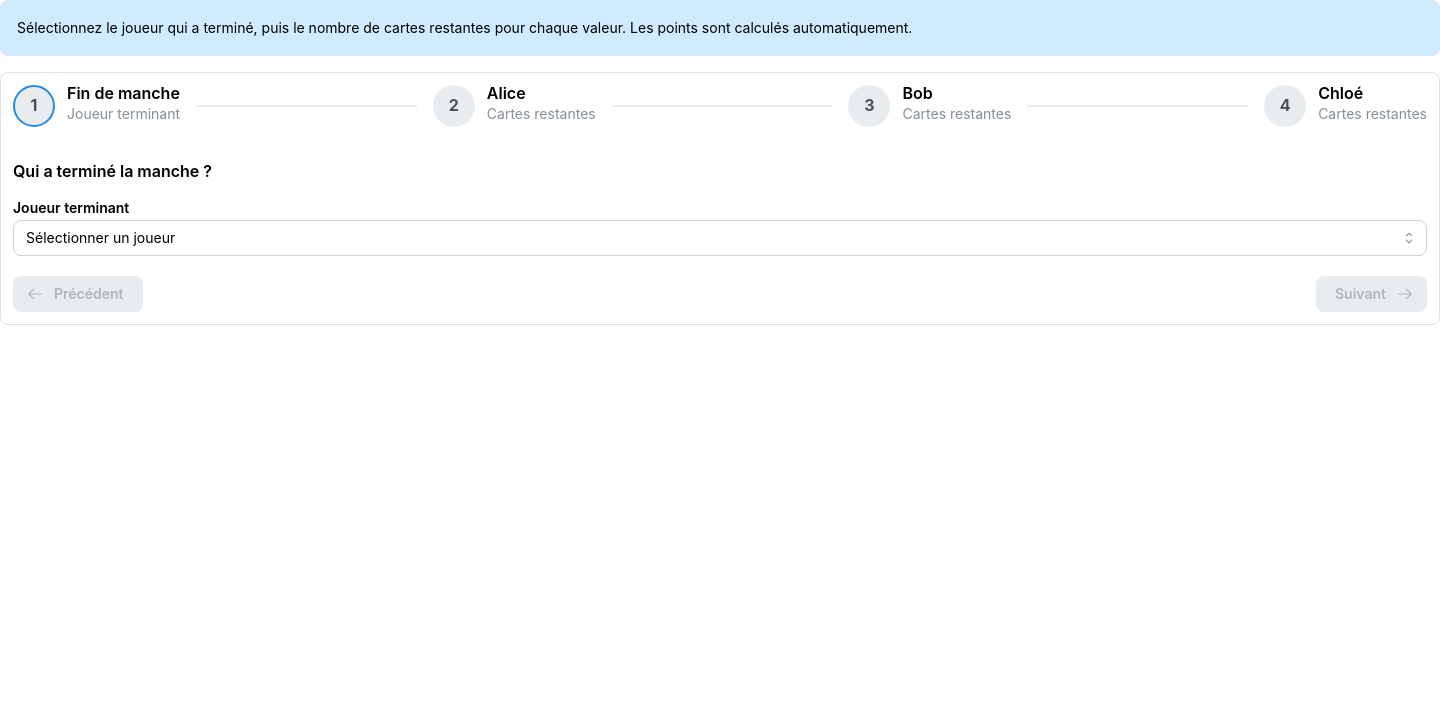
skyjo › affiche la saisie et les joueurs
The width and height of the screenshot is (1440, 704).
Expected: the text "Fin de manche" is shown, [67, 85, 180, 101]
Expected: the button "Suivant" is disabled, [1316, 276, 1427, 312]
Select "Alice" in the dropdown labelled "Joueur terminant": {"x": 720, "y": 238} [13, 220, 1427, 256]
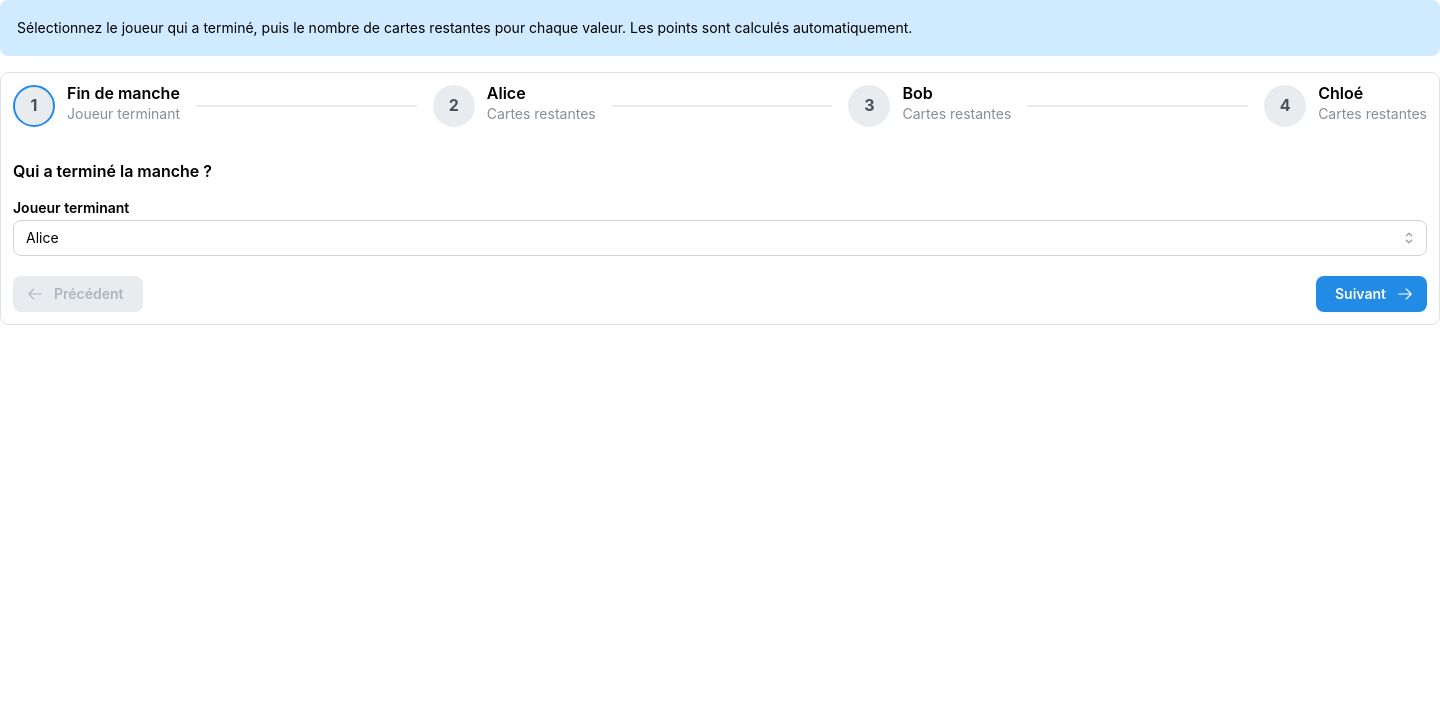
Click the button "Suivant": {"x": 1372, "y": 294} [1316, 276, 1427, 312]
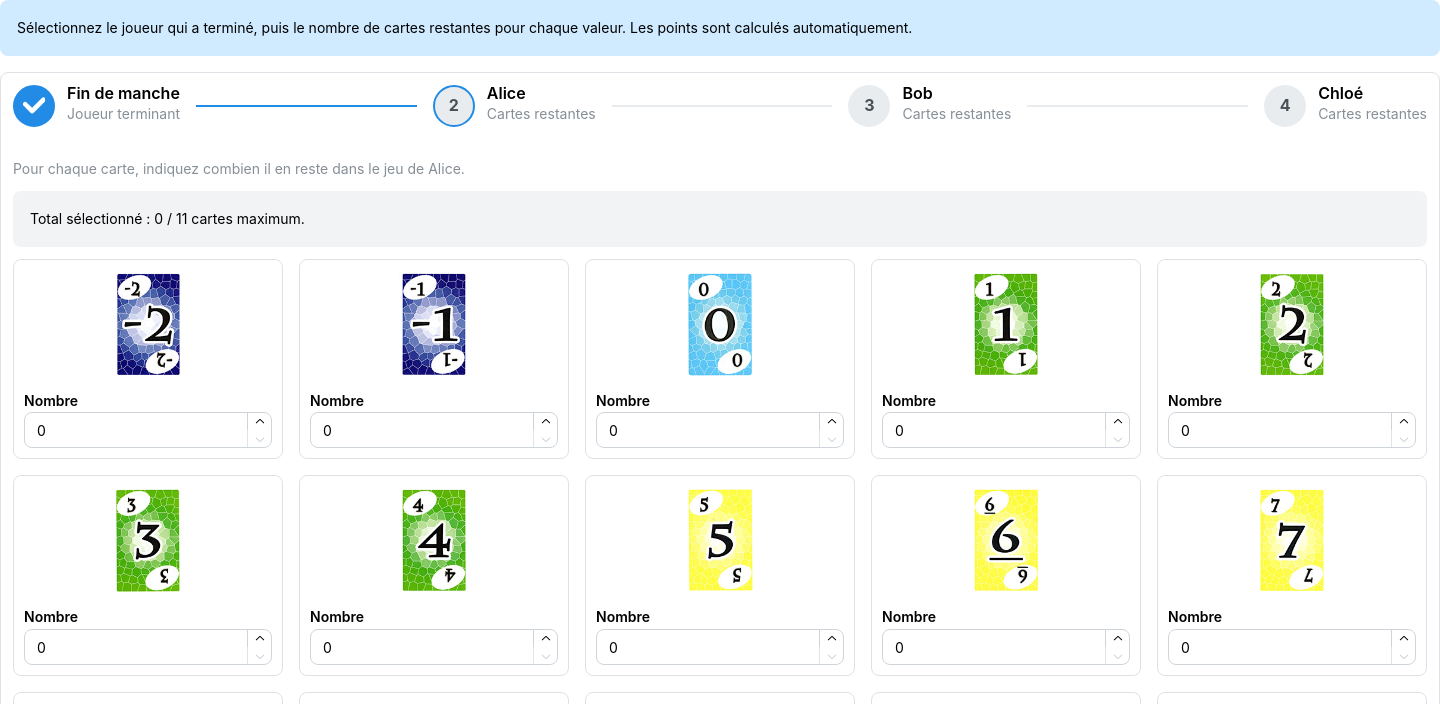
Now the picture named "Carte Skyjo -2" is shown, box [24, 270, 272, 378]
